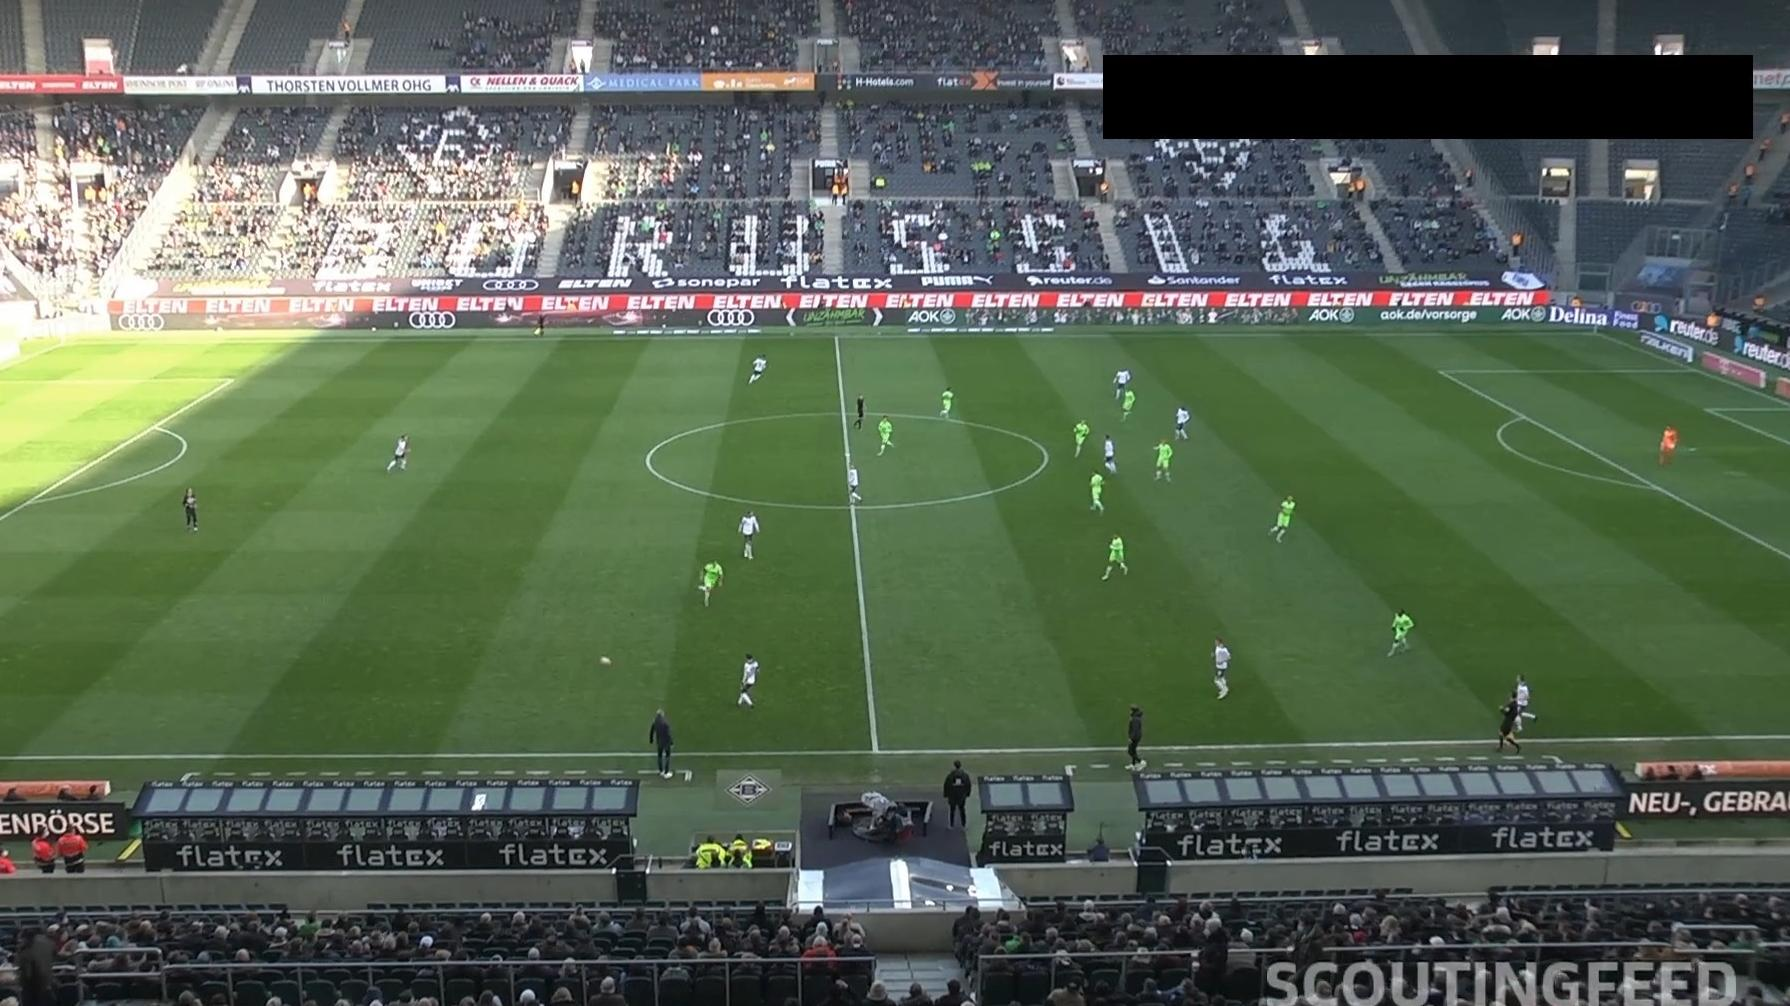ball: (600, 654, 612, 668)
